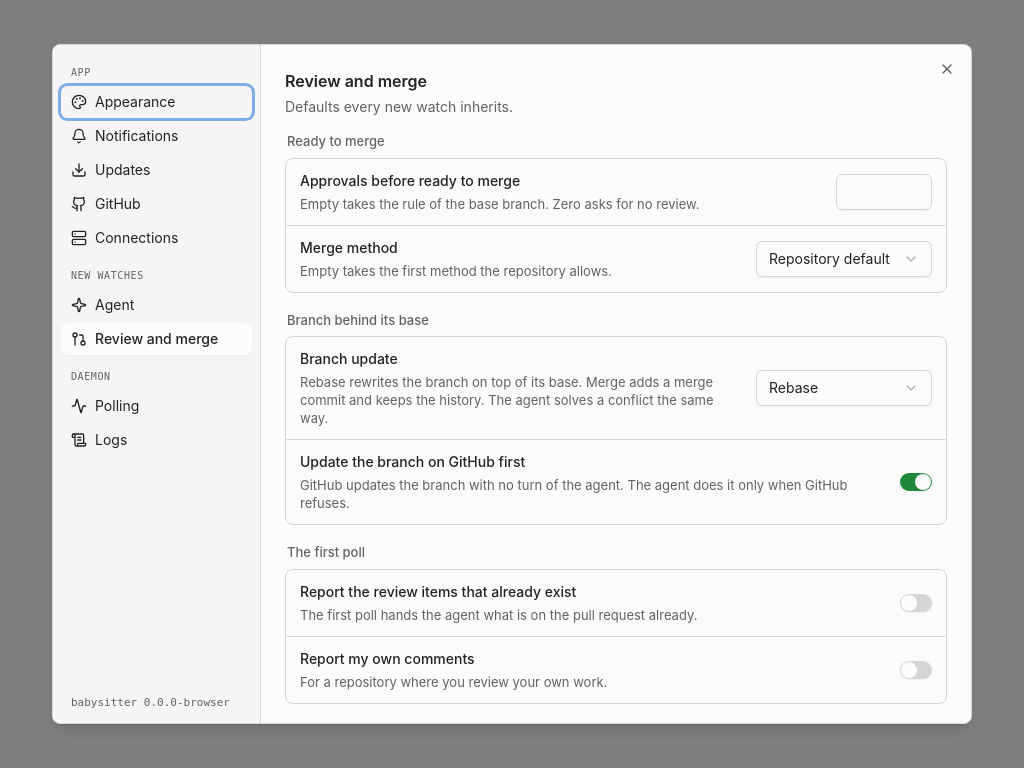
Test case: a change on a page shows the saved mark, and another page starts without it
Expected: the text "saved" is not shown
Click the switch named "Report my own comments" in the row of "Report my own comments". click: {"x": 916, "y": 670}
box: [900,660,932,679]
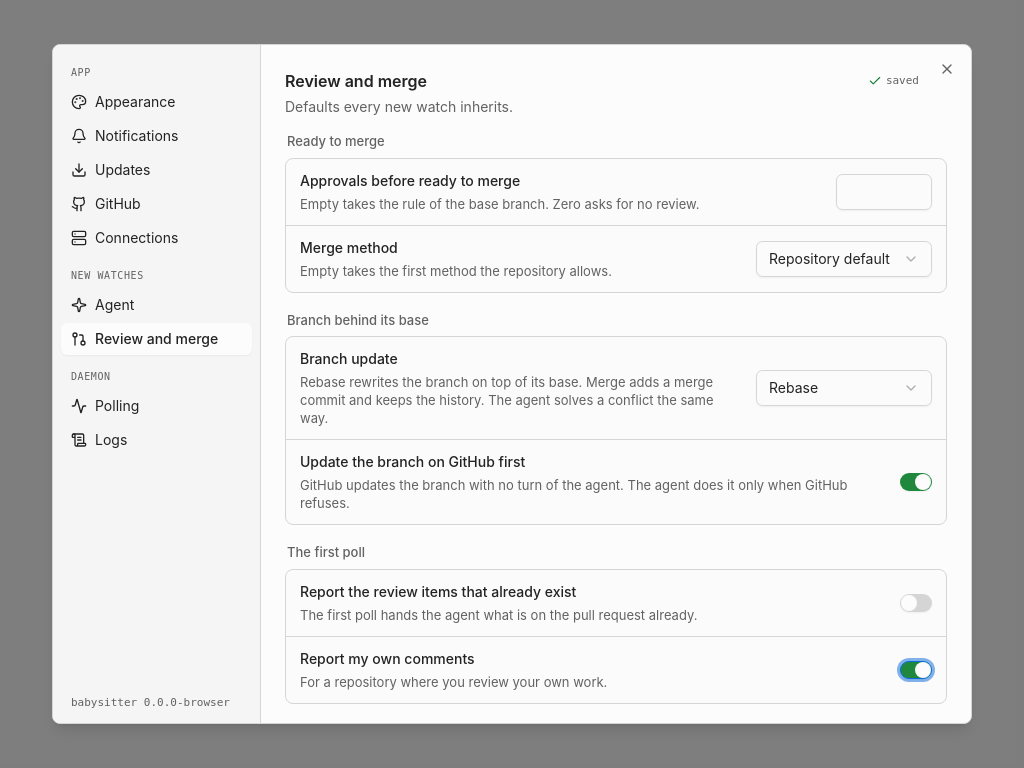
Expected: the text "saved" is shown, [868,74,919,88]
Click the button "Agent". click: {"x": 156, "y": 305}
box: [61,289,252,321]
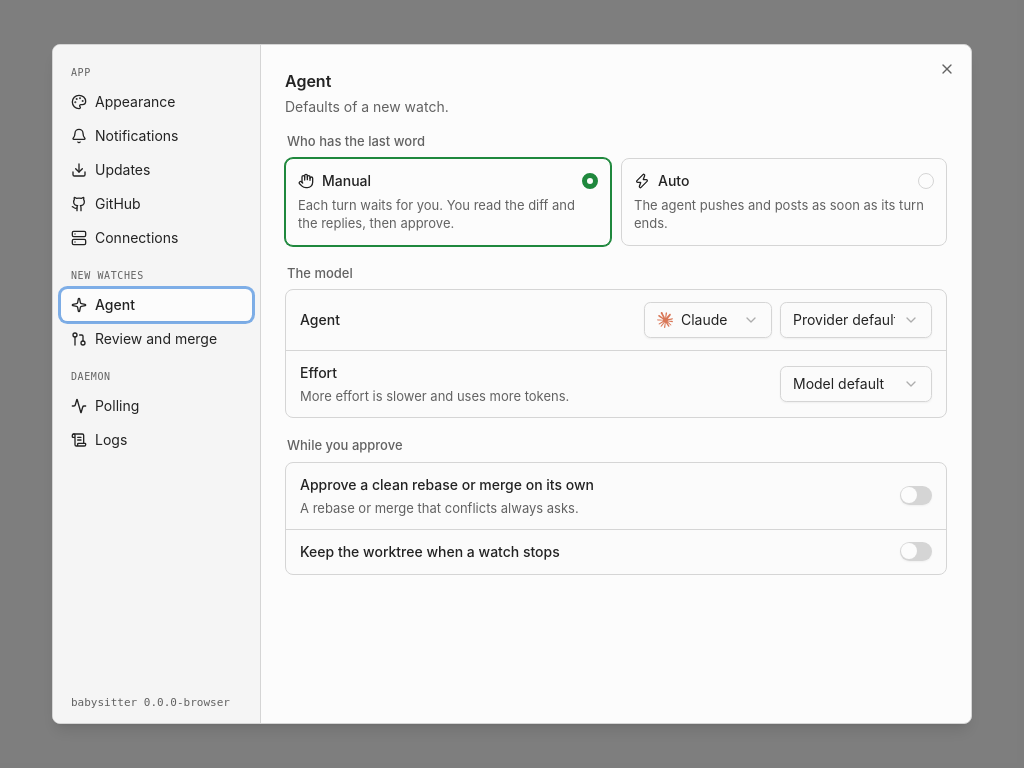
Expected: the text "saved" is gone
